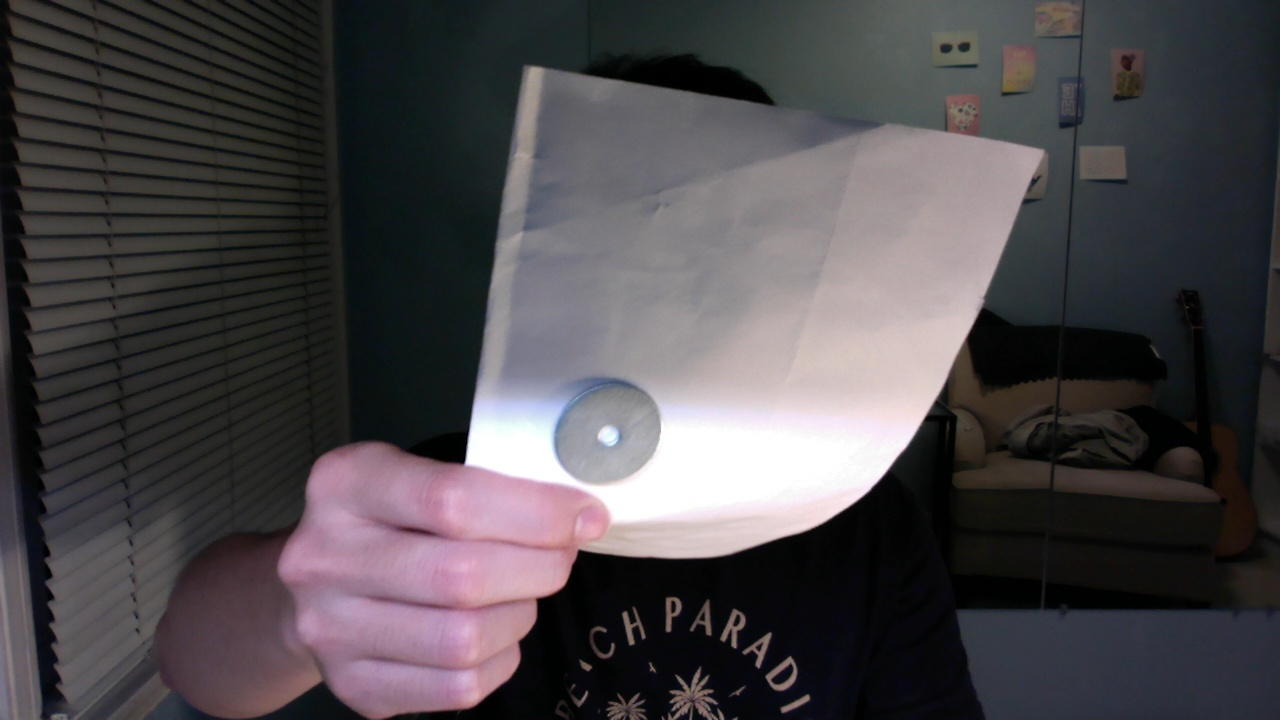NonDetectiveWashers: (551, 377, 661, 489)
